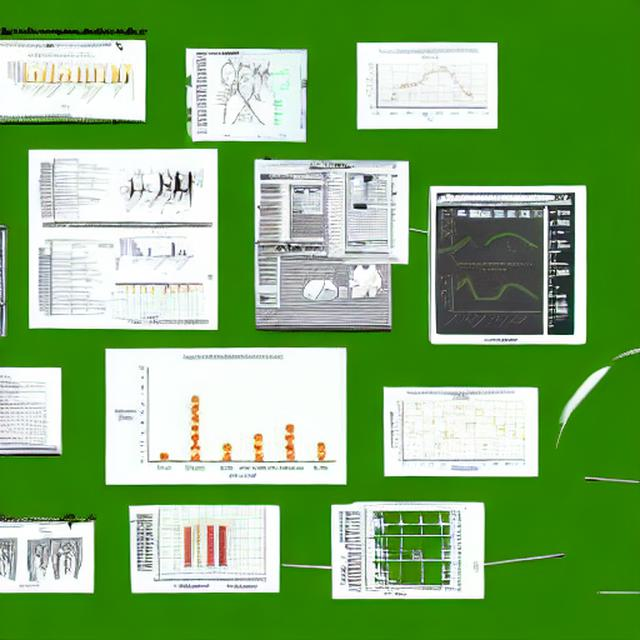Graph: (109, 353, 339, 482), (389, 390, 529, 473), (360, 46, 493, 122), (440, 260, 543, 335), (10, 51, 112, 111), (121, 234, 195, 276)
